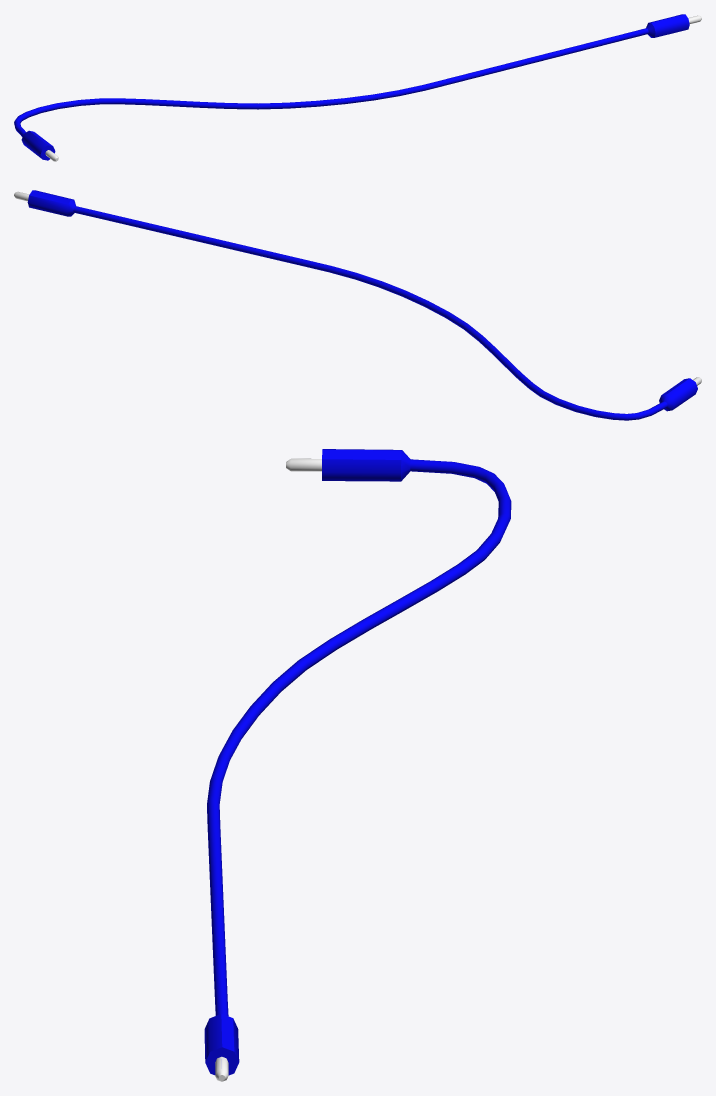
The model's file is ElectroWires08_3.FBX.
3 views of the same model, one above another, from view 1: azimuth 30°, elevation 25°; view 2: azimuth 150°, elevation 25°; view 3: azimuth 270°, elevation 25° (orthographic). The views are drawn at different scales.
Visible parts, largest first — view 1: Wires08; view 2: Wires08; view 3: Wires08.
Boxes of the visible parts, x1,y1,x2,y2 form: Wires08: [14, 14, 701, 161]; Wires08: [14, 190, 701, 420]; Wires08: [204, 449, 511, 1081].
Bounding box in the file's own units: 119 × 2.77 × 24.96.
